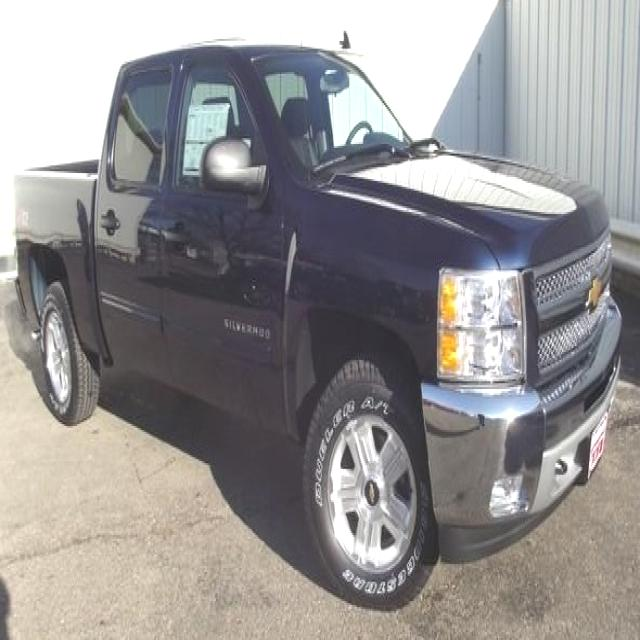CMT: (12, 34, 618, 604)
